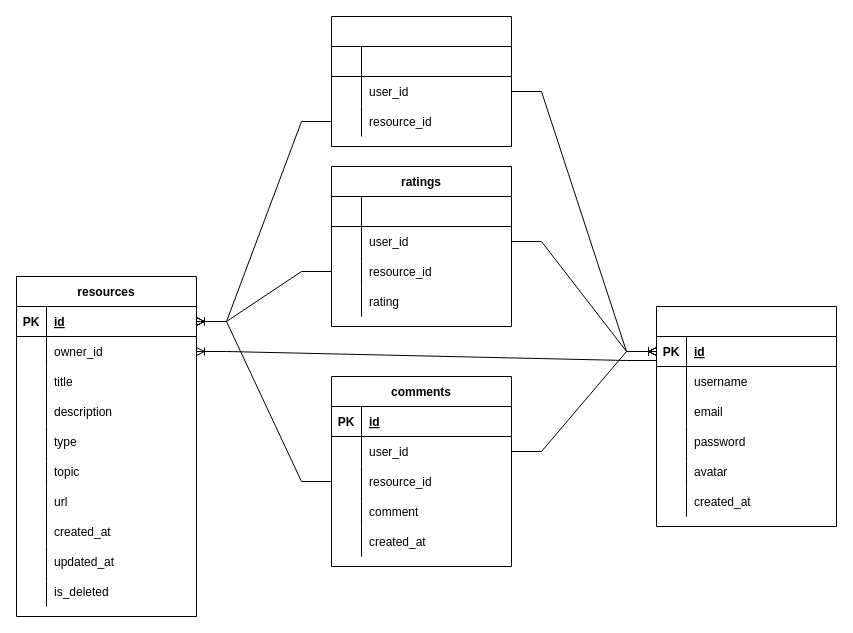
The diagram is 853 pixels wide and 633 high, and some of its shapes have lost their labels. The box of each missing label's shape, as (x1, y1, x2, y2) in pixels:
likes: (330, 16, 512, 146)
users: (656, 306, 836, 526)
